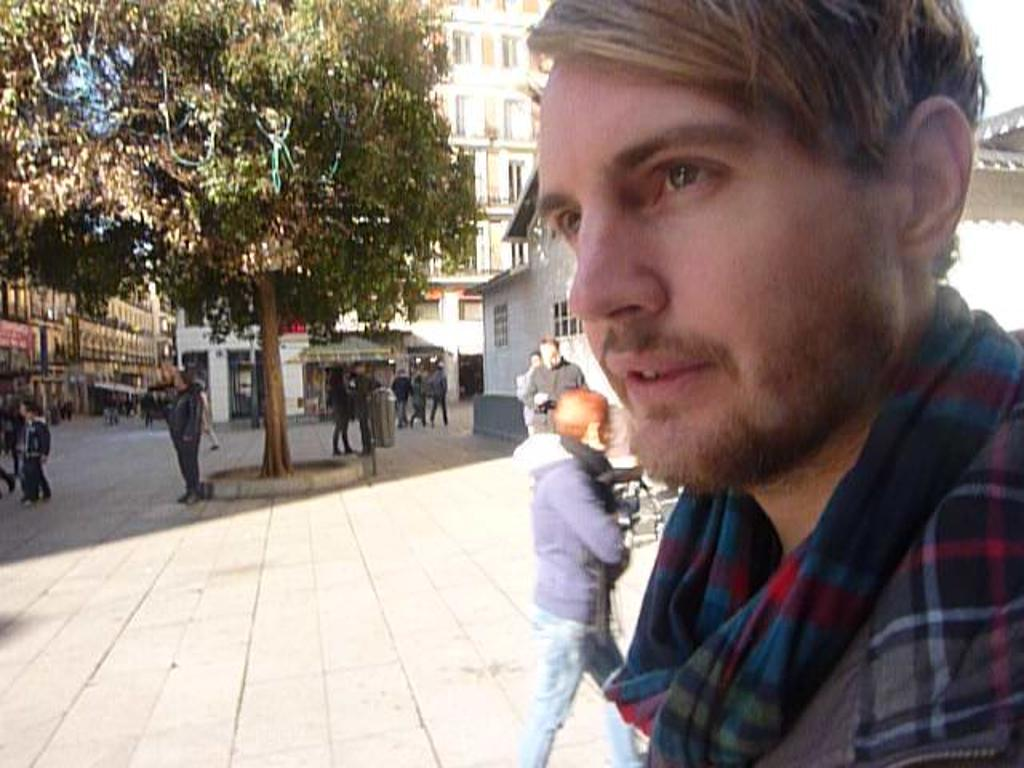face: (544, 46, 900, 474)
